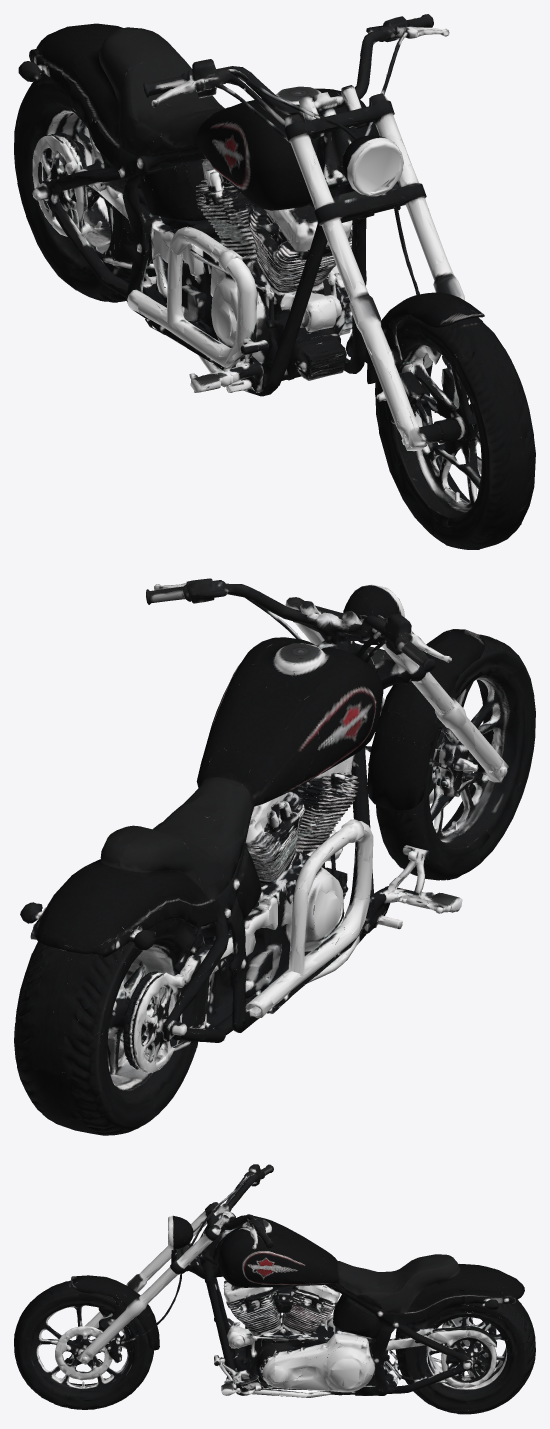
The model's file is ravager-chopper.glb.
3 views of the same model, one above another, from view 1: azimuth 30°, elevation 25°; view 2: azimuth 150°, elevation 25°; view 3: azimuth 270°, elevation 25° (orthographic). The views are drawn at different scales.
Visible parts, largest first — view 1: ravager-chopper; view 2: ravager-chopper; view 3: ravager-chopper.
Boxes of the visible parts, bbox=[...] form: ravager-chopper: bbox=[14, 14, 535, 549]; ravager-chopper: bbox=[14, 578, 535, 1135]; ravager-chopper: bbox=[14, 1164, 535, 1414].
Bounding box in the file's own units: 0.9123 × 1.15 × 2.5.
1 material, 1 textured.
